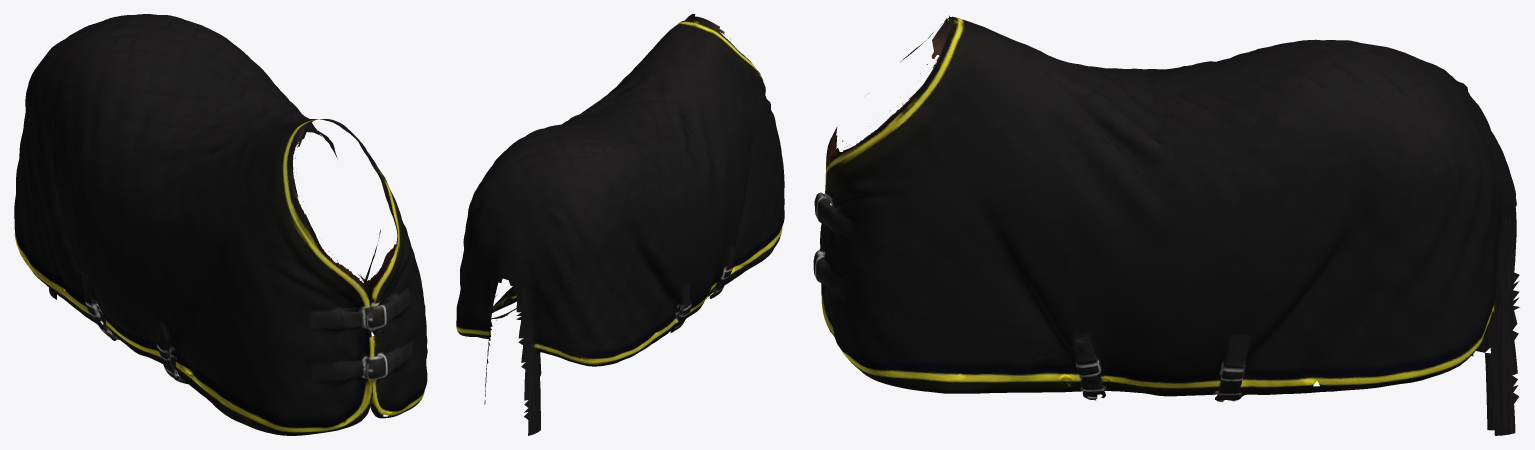
Rendered from warm-rug-on-horse.glb.
3 renders of one model, left to right at view 1: azimuth 30°, elevation 25°; view 2: azimuth 150°, elevation 25°; view 3: azimuth 270°, elevation 25°, orthographic. The views are drawn at different scales.
Parts seen in each view (by area): view 1: tripo_node_5f3f9e45; view 2: tripo_node_5f3f9e45; view 3: tripo_node_5f3f9e45.
Part boxes in pixels (x1=…): tripo_node_5f3f9e45: x1=14, y1=14, x2=427, y2=435; tripo_node_5f3f9e45: x1=456, y1=14, x2=784, y2=435; tripo_node_5f3f9e45: x1=813, y1=16, x2=1519, y2=435.
Bounding box in the file's own units: 0.752 × 1.09 × 1.73.
1 material, 1 textured.
